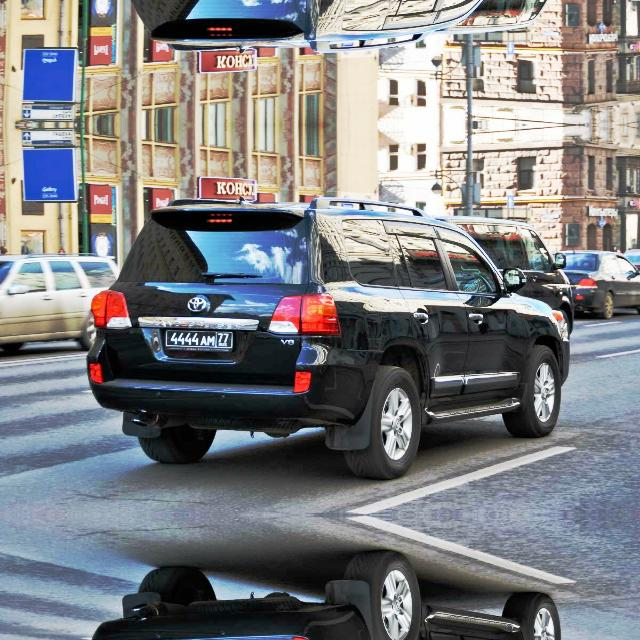military: (160, 324, 238, 354)
